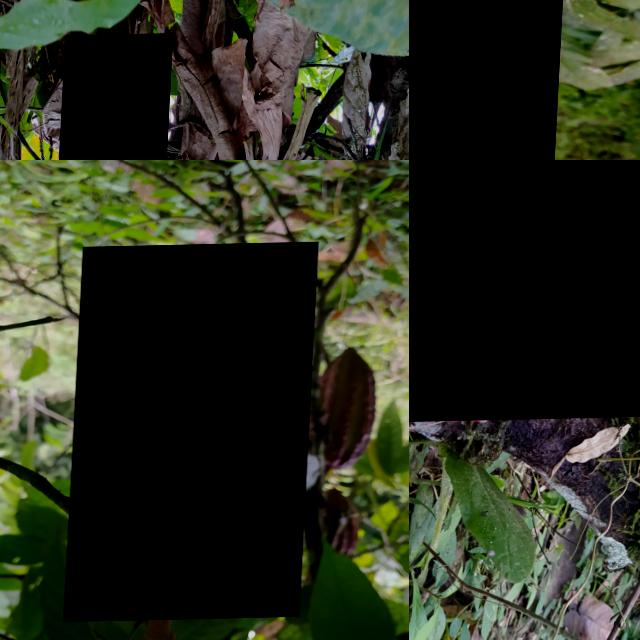Fitoftora: (409, 0, 570, 160), (52, 35, 174, 160)
Monilia: (69, 244, 319, 623), (409, 160, 640, 424)
Sana: (304, 349, 382, 474)
